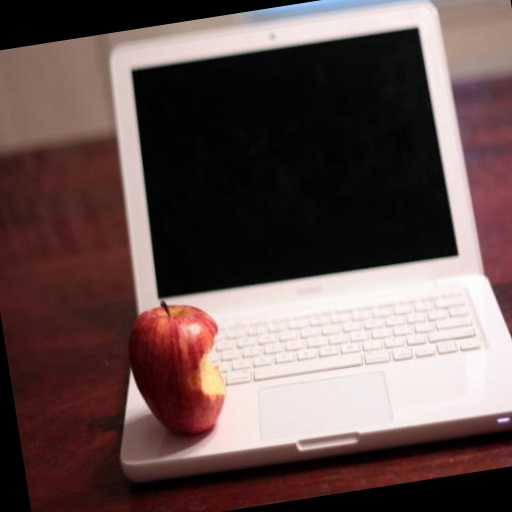fruit: (129, 301, 226, 434)
